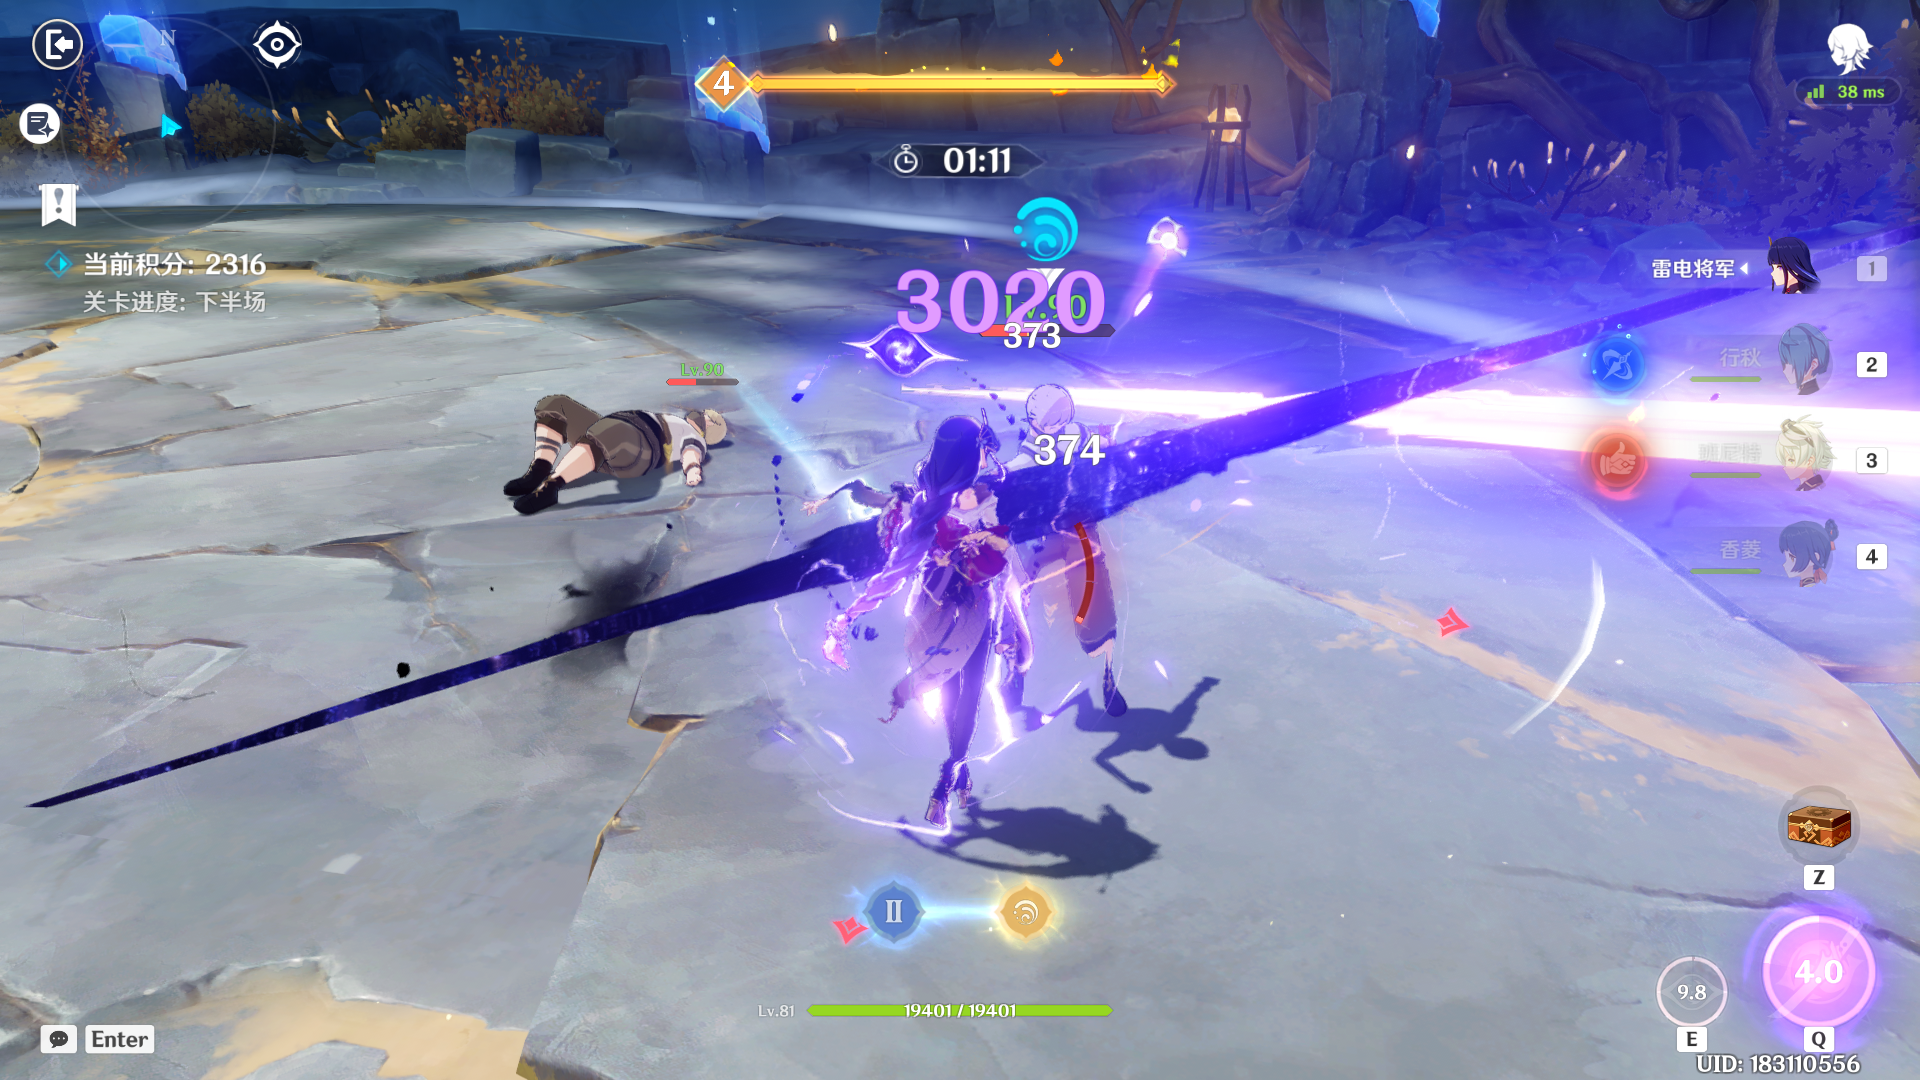character: (815, 385, 1109, 952)
robber: (483, 320, 740, 567)
